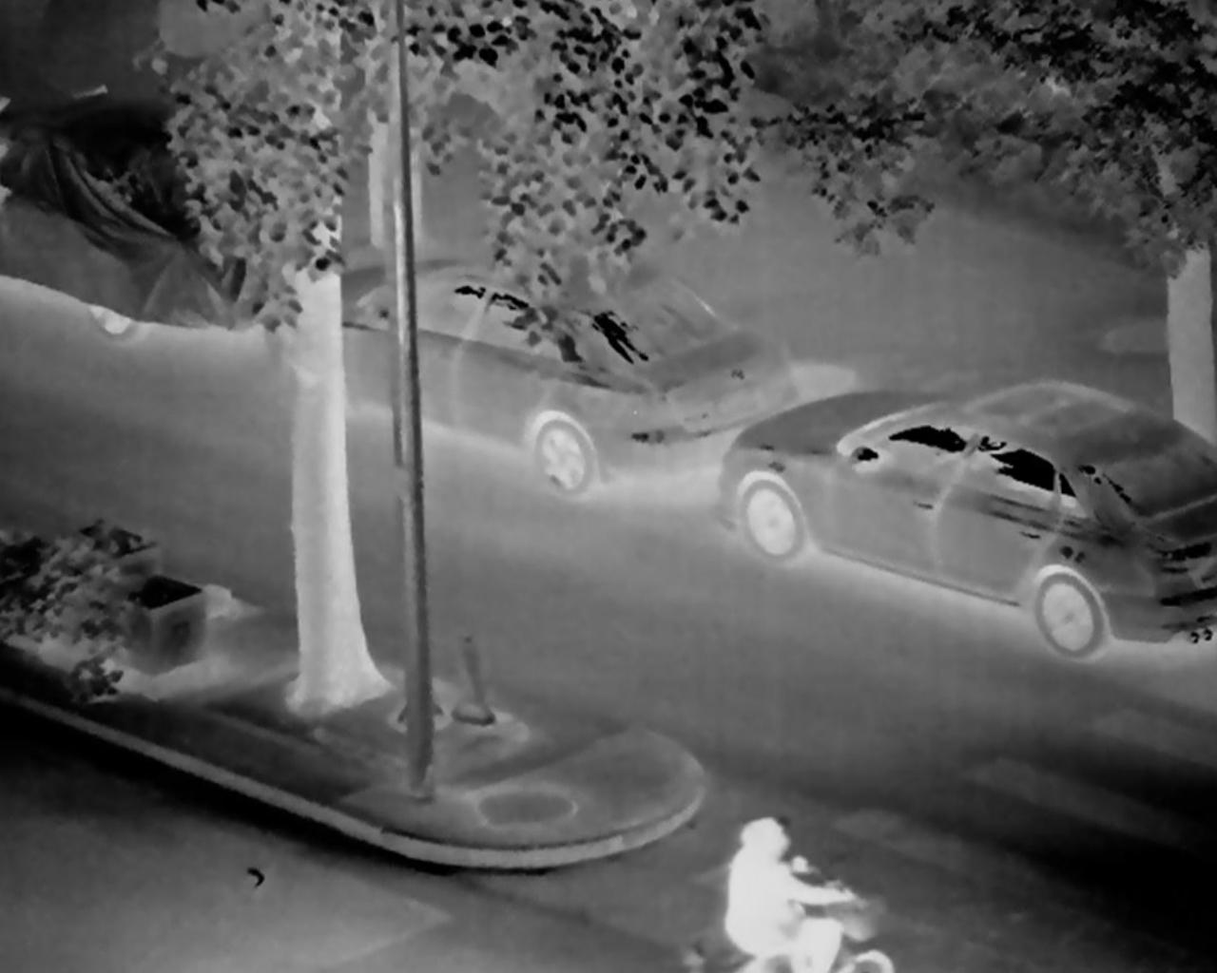person: (723, 817, 853, 973)
